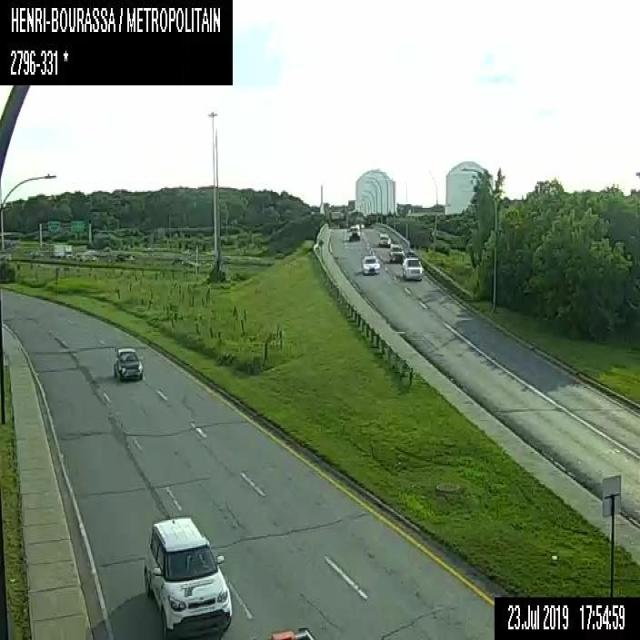vehicle: (142, 513, 232, 639), (112, 346, 143, 382), (268, 625, 315, 639), (402, 256, 423, 279), (361, 253, 379, 275), (389, 243, 404, 262), (53, 244, 72, 257), (348, 226, 360, 240), (378, 232, 390, 246)
